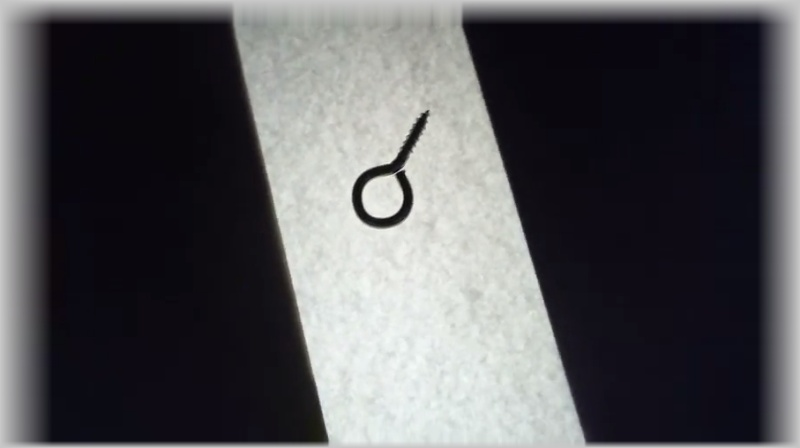O001: (348, 104, 434, 235)
